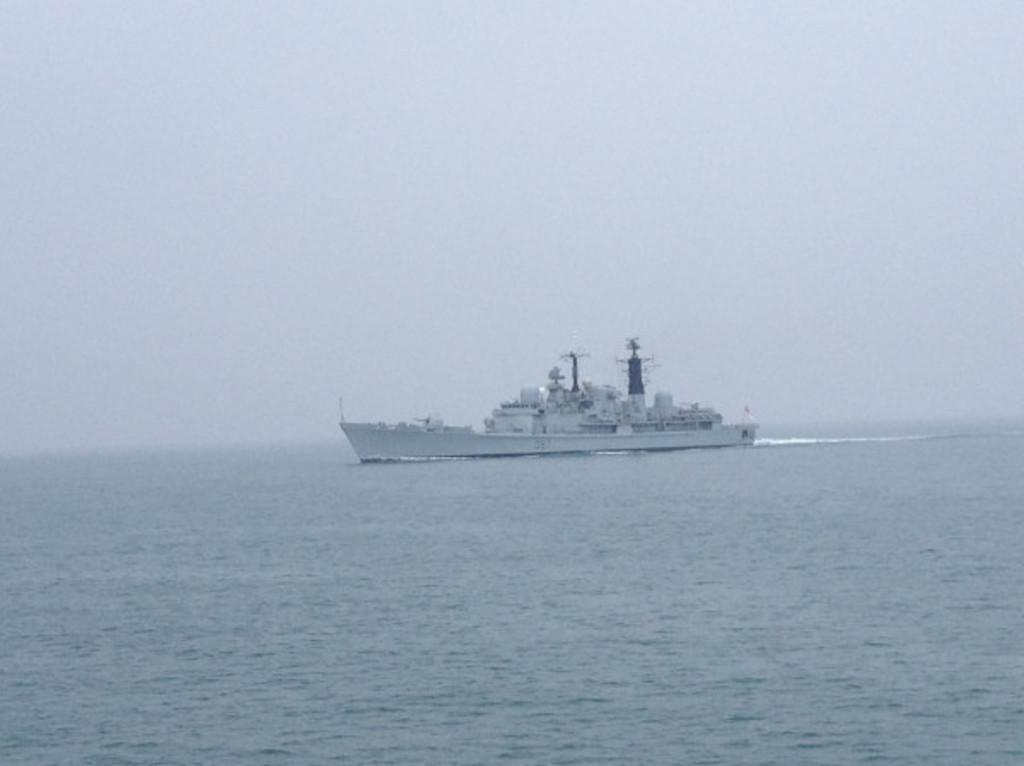Warship: (334, 318, 760, 466)
